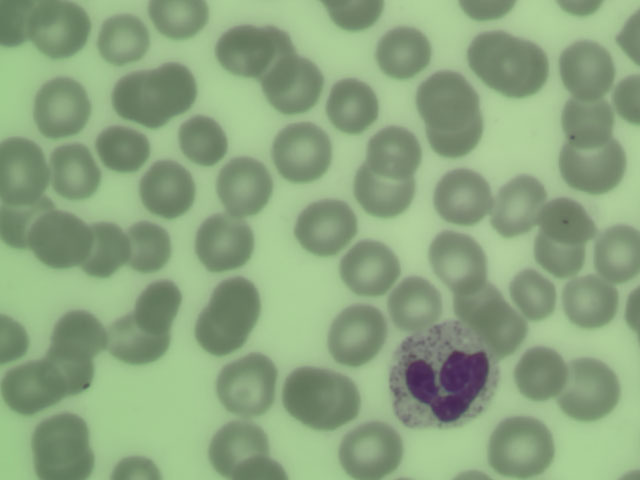RBC: (301, 200, 355, 253), (274, 126, 328, 179), (377, 24, 431, 77), (265, 57, 319, 110), (247, 28, 301, 81), (216, 24, 270, 77), (495, 420, 549, 473), (561, 364, 615, 417), (512, 345, 566, 398), (430, 233, 484, 286), (434, 170, 488, 223), (492, 179, 546, 232), (564, 278, 618, 331), (543, 192, 597, 245), (565, 136, 619, 189), (562, 94, 616, 147), (559, 40, 613, 93), (345, 423, 399, 476), (308, 375, 362, 428), (280, 366, 334, 419), (209, 420, 263, 473), (220, 361, 274, 414), (34, 409, 88, 462), (4, 362, 58, 415), (38, 346, 92, 399), (49, 303, 103, 356), (111, 312, 165, 365), (195, 302, 249, 355), (132, 279, 186, 332), (146, 61, 200, 114), (107, 71, 161, 124), (138, 161, 192, 214), (49, 145, 103, 198), (122, 221, 176, 274), (34, 212, 88, 265), (35, 81, 89, 134), (93, 14, 147, 67), (31, 1, 85, 54), (196, 219, 250, 272), (220, 158, 274, 211), (176, 114, 230, 167), (369, 123, 423, 176), (426, 105, 480, 158), (418, 72, 472, 125), (487, 38, 541, 91), (345, 240, 399, 293), (330, 306, 384, 359), (357, 163, 411, 216), (1, 193, 53, 246), (1, 143, 51, 196), (80, 221, 128, 276), (98, 125, 149, 175), (531, 231, 588, 275), (325, 80, 374, 130), (510, 270, 560, 318), (390, 280, 443, 325), (598, 228, 640, 283), (38, 440, 94, 479), (153, 1, 203, 43), (456, 279, 502, 323), (216, 275, 263, 318), (482, 310, 527, 352), (109, 445, 163, 479), (457, 1, 522, 29), (1, 1, 44, 42), (1, 311, 32, 365), (330, 1, 381, 31), (614, 72, 640, 130), (232, 453, 286, 480)
WBC: (397, 327, 494, 430)
